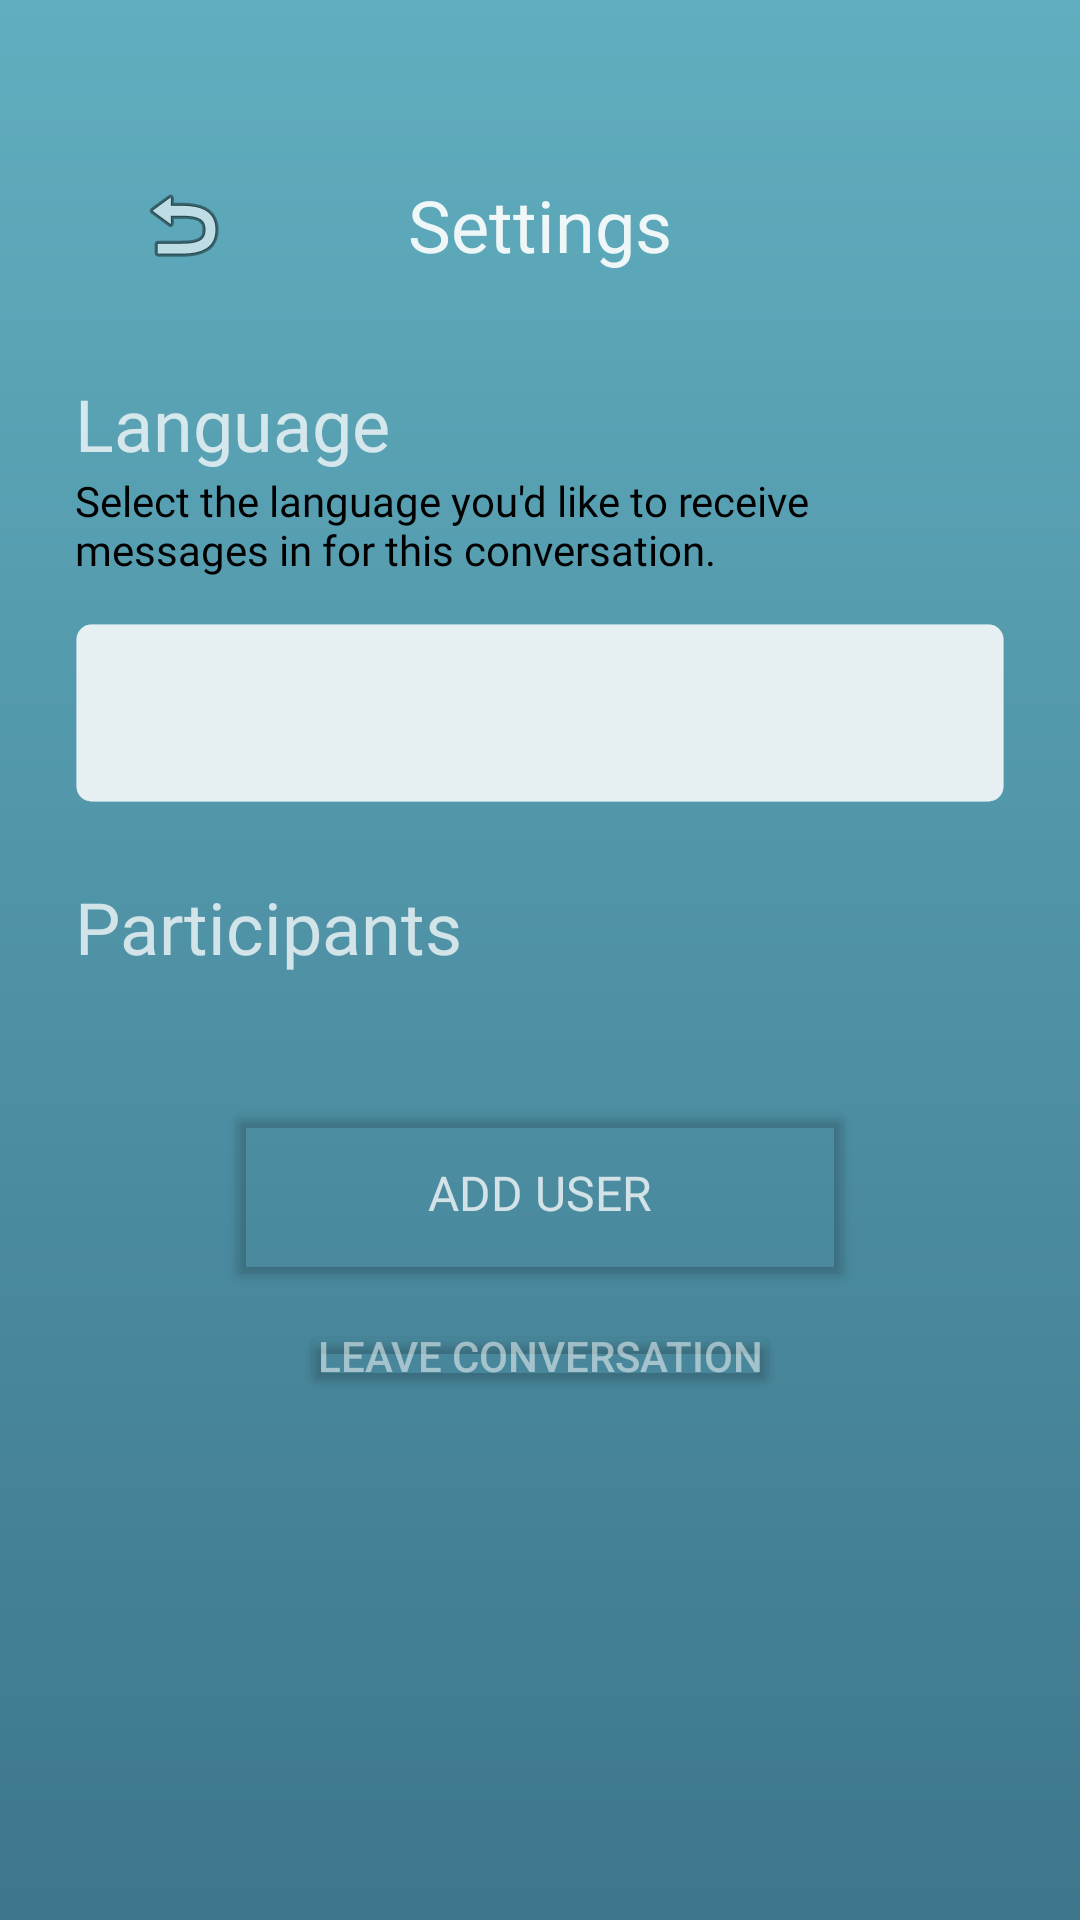

Screen size 1080×1920. Icon name, then its center in pixels as [x,y]:
revert: [184,225]
